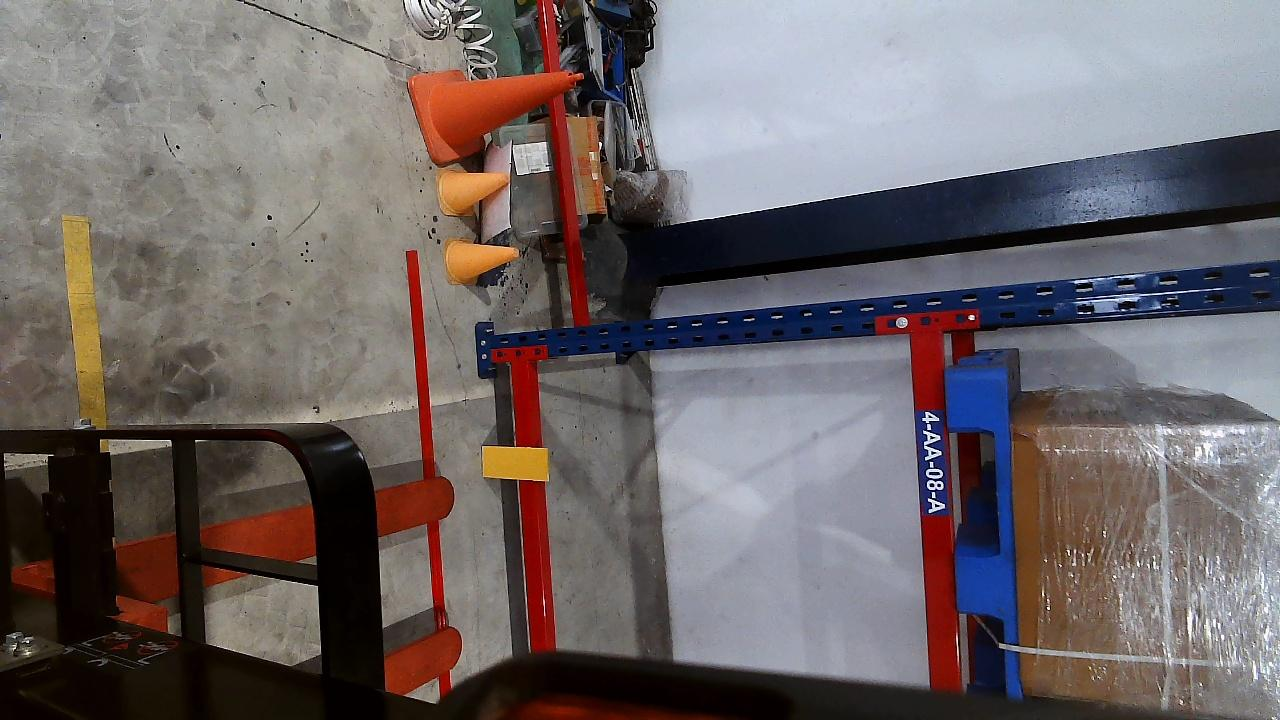h_rack: (907, 327, 963, 689), (509, 358, 555, 651)
orange_strip: (481, 446, 548, 480)
red_line: (407, 257, 446, 626)
small_pallet: (947, 365, 1015, 690)
yellow_line: (60, 216, 106, 427)
